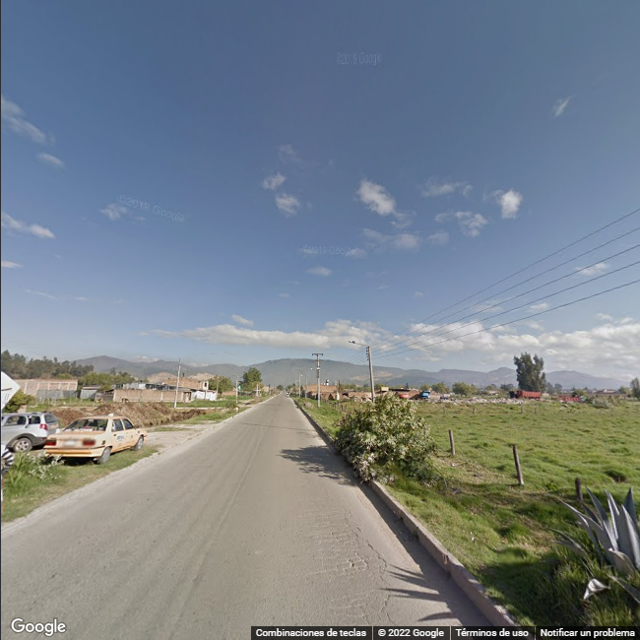D20: (309, 508, 386, 579)
